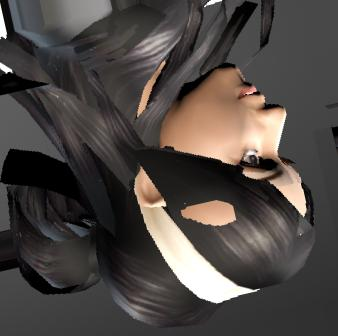clip: (183, 194, 245, 231)
